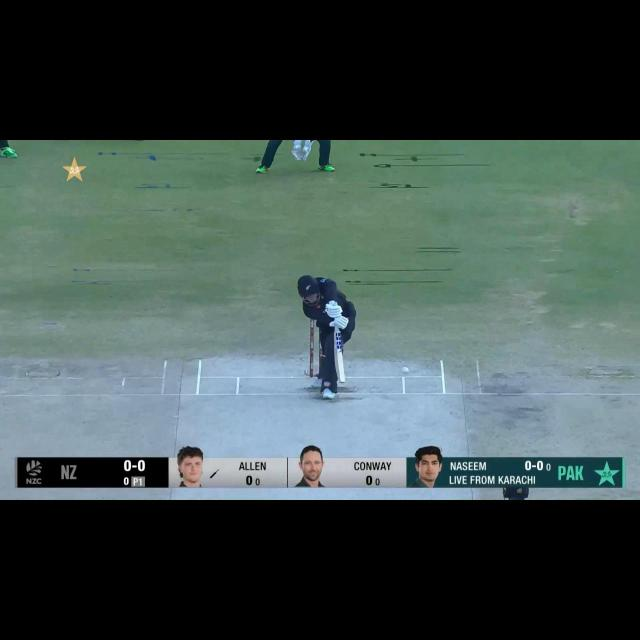bat: (332, 332, 349, 384)
toe: (338, 375, 347, 385)
